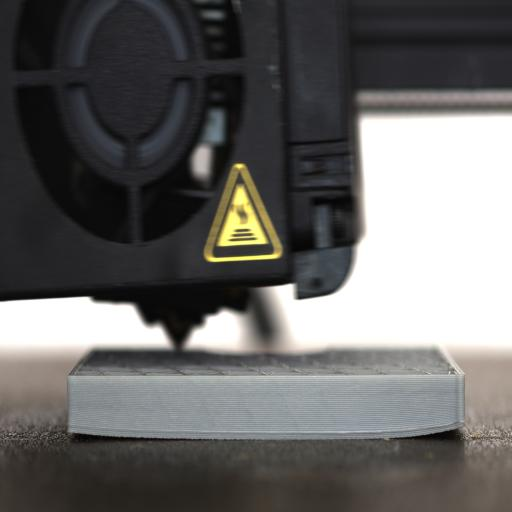warp: (63, 413, 126, 444), (414, 411, 468, 446)
